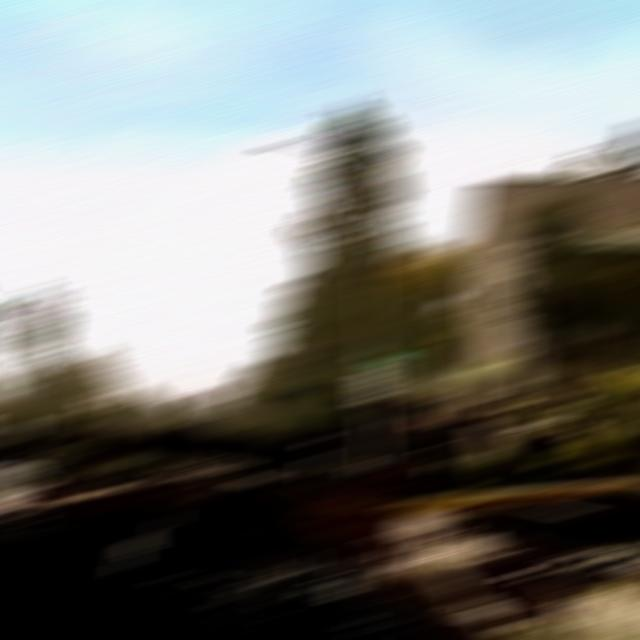speedLimit25: (355, 369, 392, 399)
